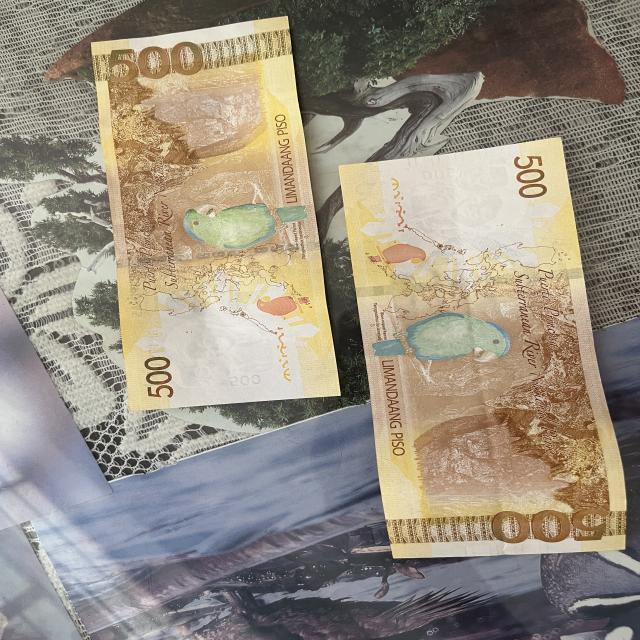500_big_parrot: (374, 308, 510, 368), (175, 205, 307, 247)
500_parrot_watermark: (252, 292, 307, 319), (370, 244, 428, 268)
value_watermark: (421, 165, 464, 182), (230, 372, 262, 388)
watermark: (399, 159, 517, 234), (170, 324, 282, 395)
